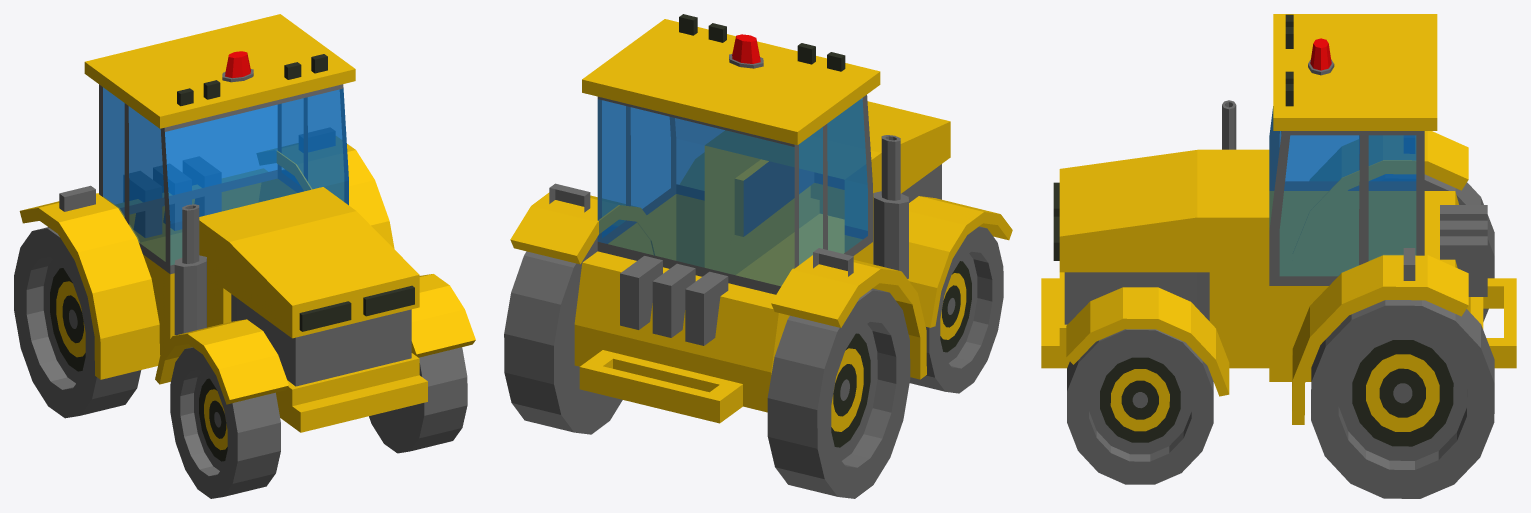
The model's file is traktor_1_1.fbx.
3 views of the same model, side by side, from view 1: azimuth 30°, elevation 25°; view 2: azimuth 150°, elevation 25°; view 3: azimuth 270°, elevation 25° (orthographic). The views are drawn at different scales.
Visible parts, largest first — view 1: Tractor01_14 - Default_0; view 2: Tractor01_14 - Default_0; view 3: Tractor01_14 - Default_0.
Part boxes in pixels (x1,y1,x2,y2): Tractor01_14 - Default_0: (14,14,475,498); Tractor01_14 - Default_0: (504,14,1012,498); Tractor01_14 - Default_0: (1041,14,1516,498).
Size of the model in its own units: 25.07 by 28.24 by 31.88.
